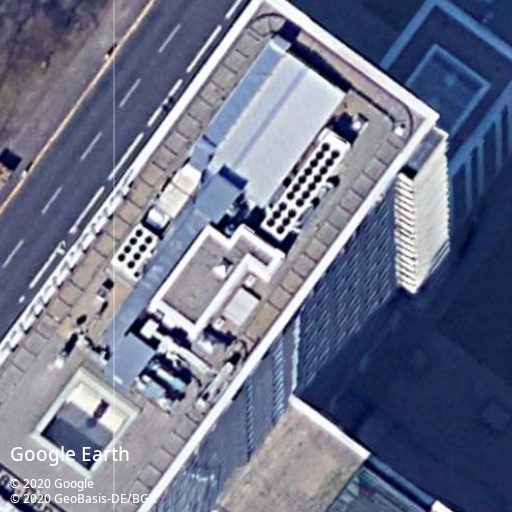Chiller: (259, 130, 351, 243), (110, 223, 158, 277)
